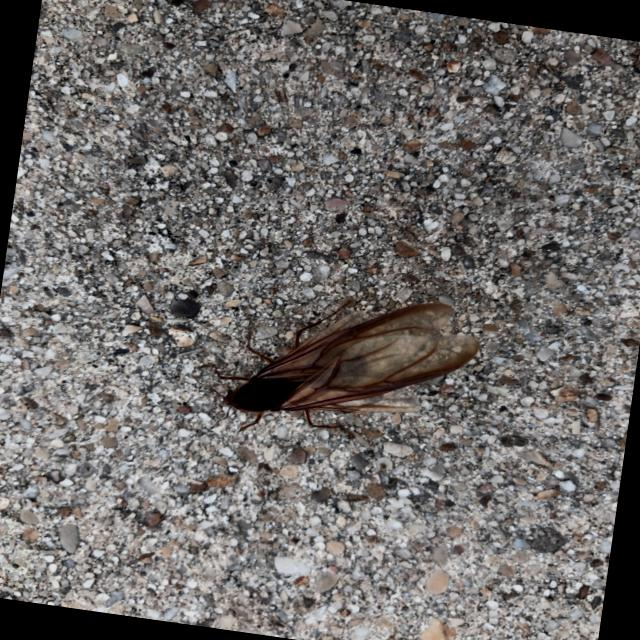Alive-Male-Alate: (184, 270, 485, 465)
